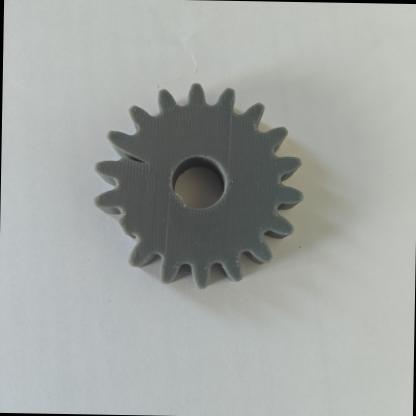defect: (78, 118, 166, 209), (96, 216, 176, 277)
gear: (66, 70, 318, 302)
